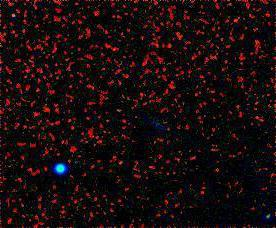star: (151, 116, 181, 146)
